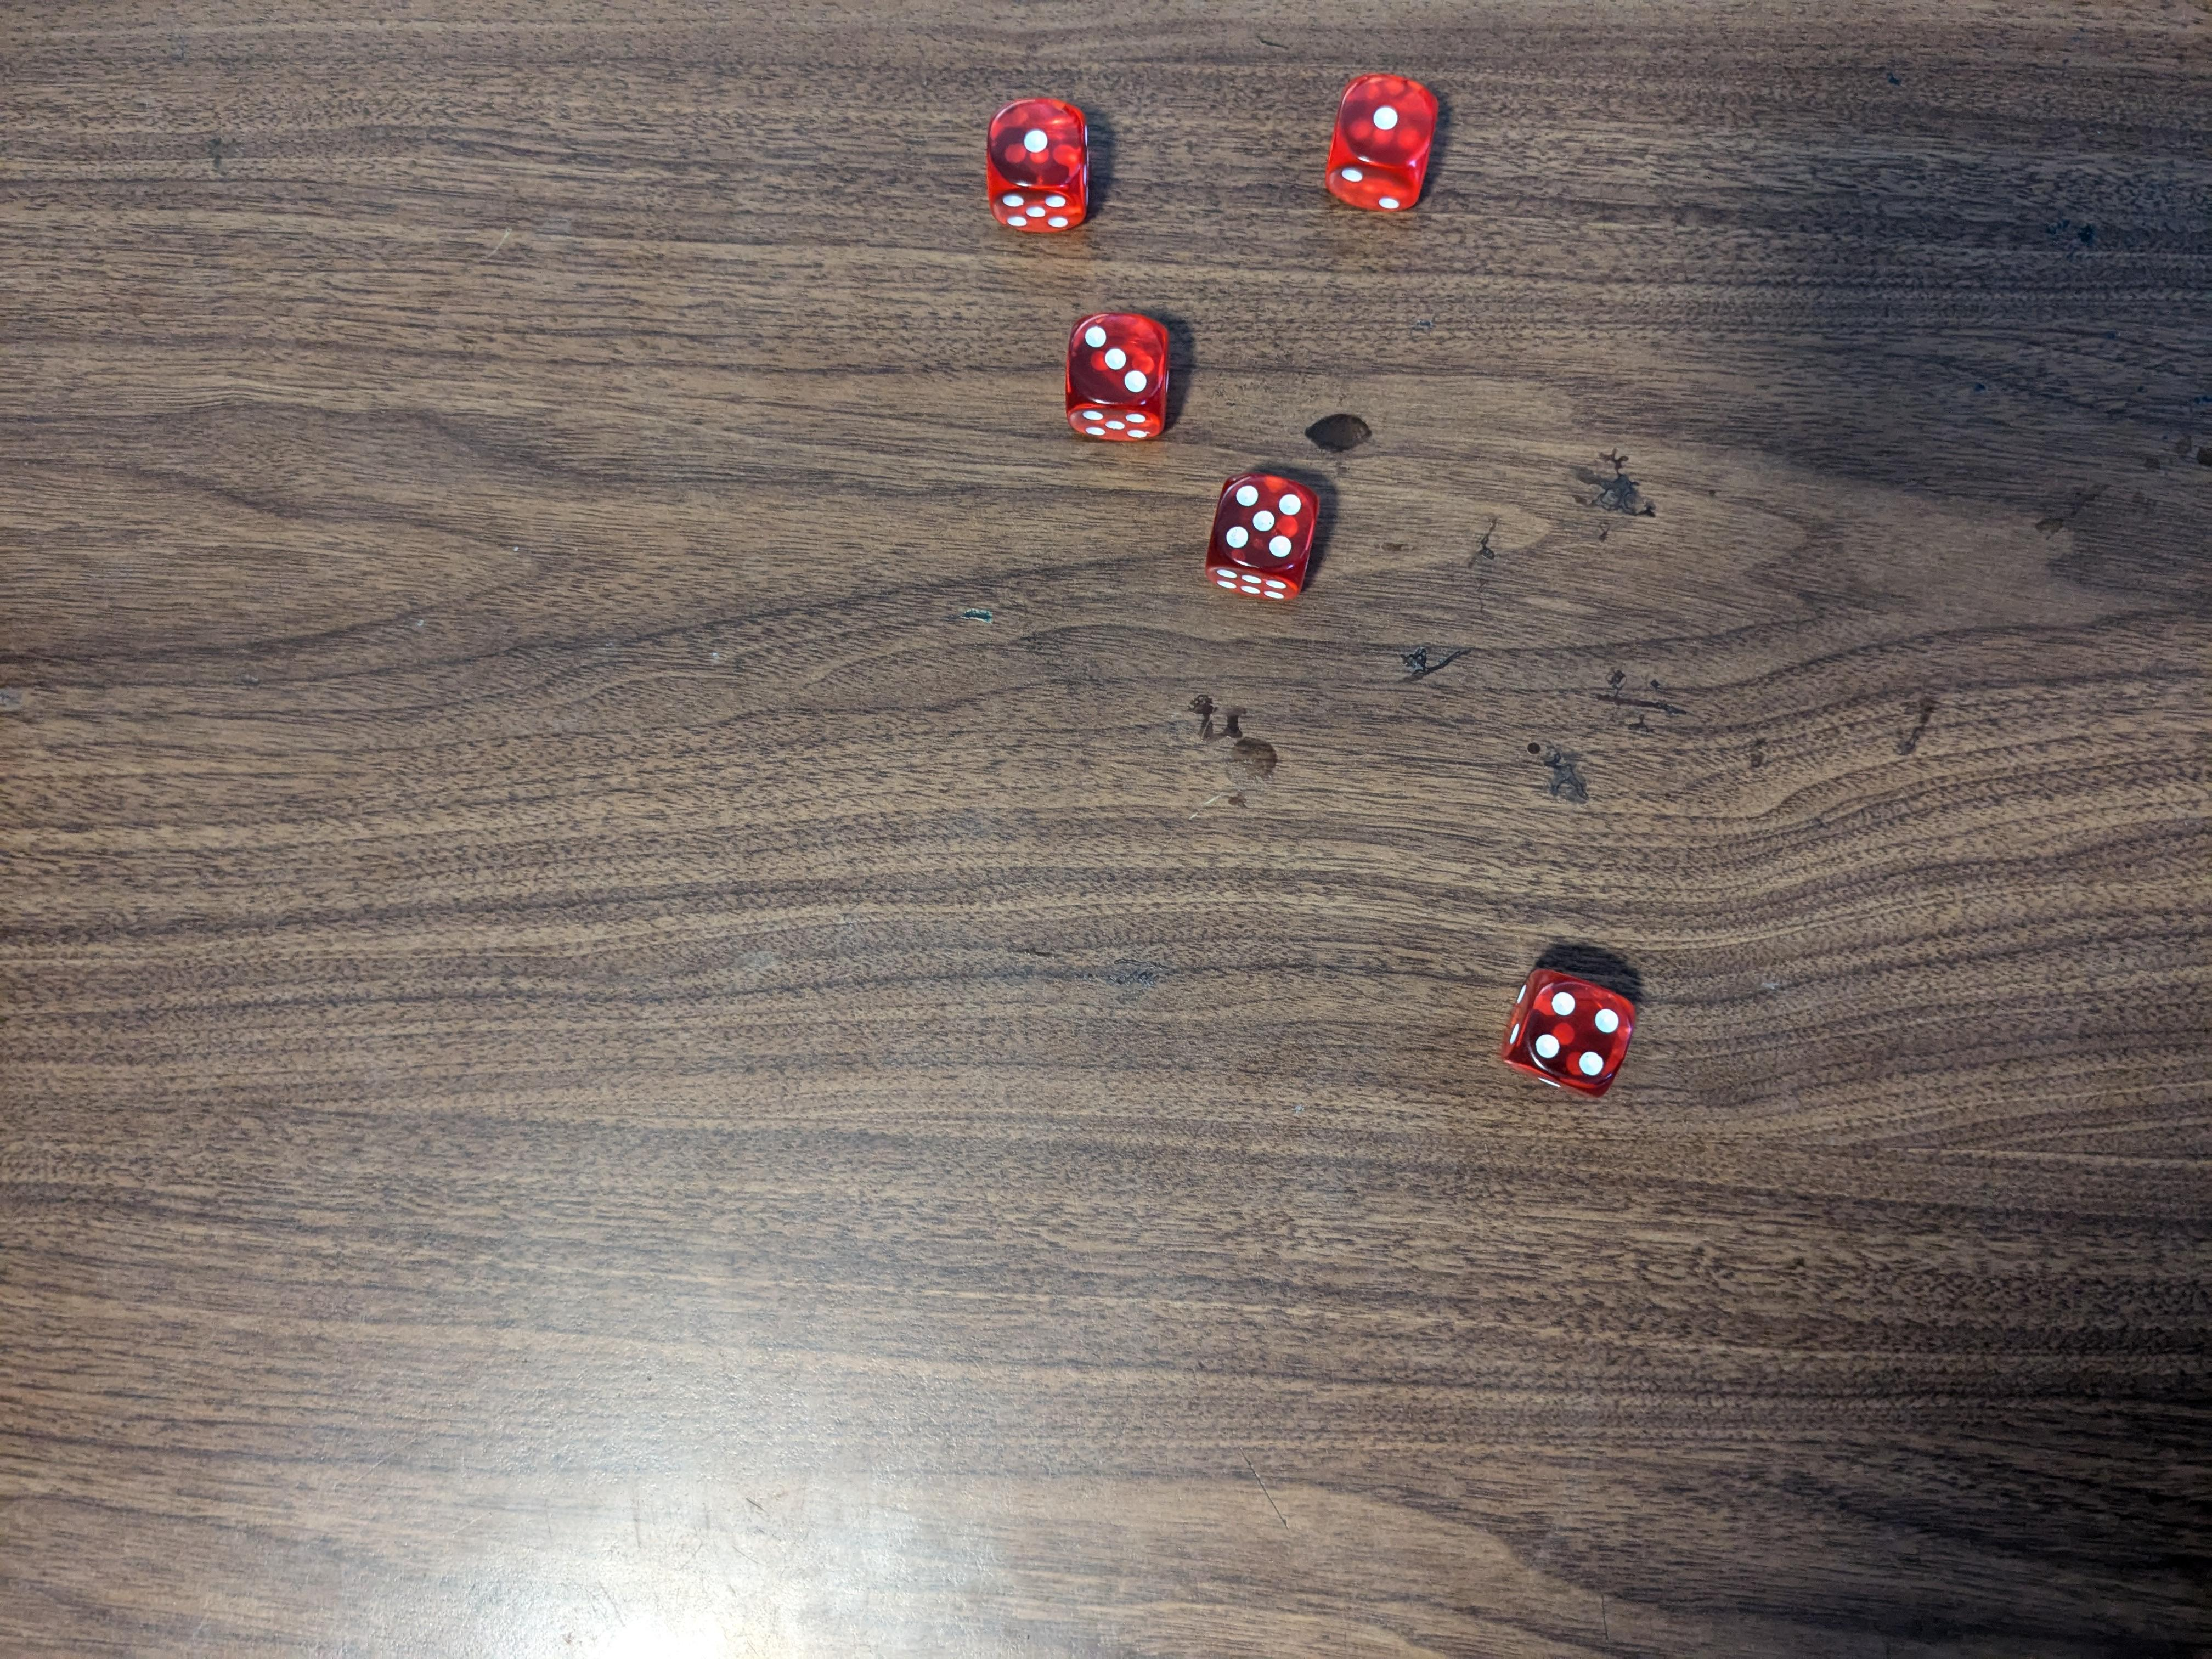five: (1205, 469, 1320, 606)
four: (1496, 964, 1641, 1100)
one: (1320, 73, 1442, 213), (977, 92, 1094, 235)
three: (1062, 310, 1188, 444)
